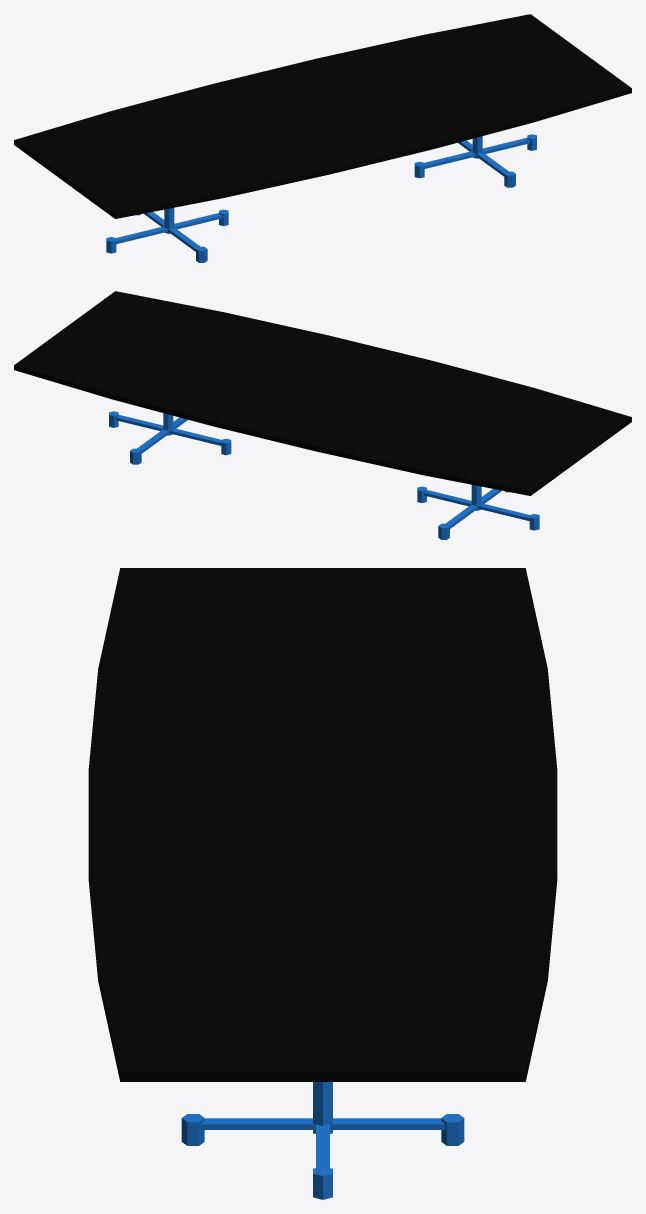
Rendered from SM_table.fbx.
3 renders of one model, top to bottom at view 1: azimuth 30°, elevation 25°; view 2: azimuth 150°, elevation 25°; view 3: azimuth 270°, elevation 25°, orthographic. The views are drawn at different scales.
Parts seen in each view (by area): view 1: Cylinder_22; view 2: Cylinder_22; view 3: Cylinder_22.
Part boxes in pixels (<box>): Cylinder_22: <box>14,14,631,262</box>; Cylinder_22: <box>14,291,631,539</box>; Cylinder_22: <box>88,568,557,1199</box>.
Bounding box in the file's own units: 450 × 71.03 × 177.
